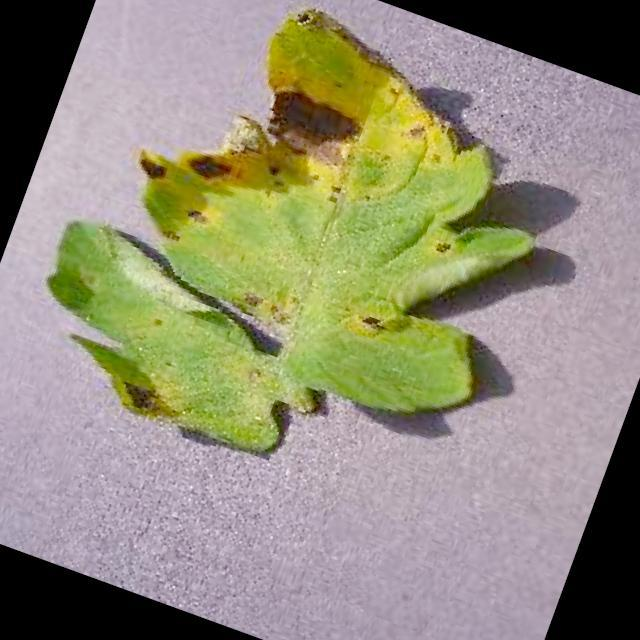Tomato Septoria spot leaf: (9, 0, 589, 529)
